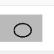no answer: (12, 20, 35, 39)
